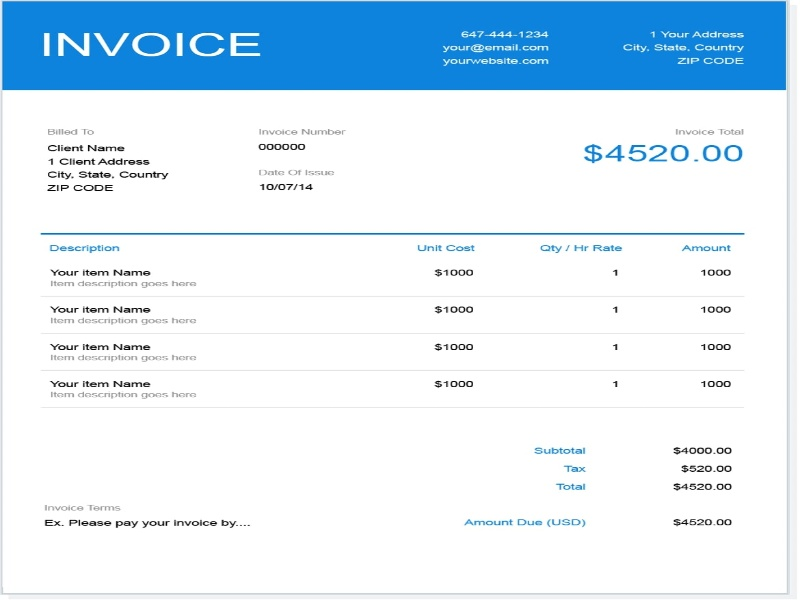invoice_detail: (43, 126, 172, 197)
table: (41, 232, 743, 407)
total: (461, 512, 735, 531)
